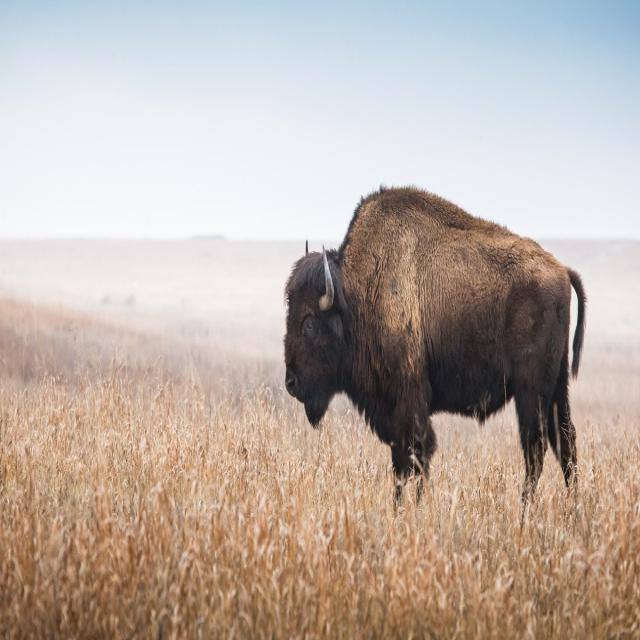Bison: (255, 173, 598, 567)
